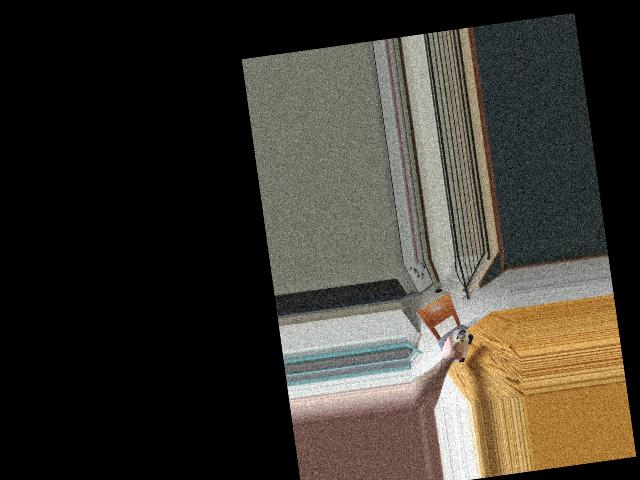cheese: (439, 327, 476, 367)
